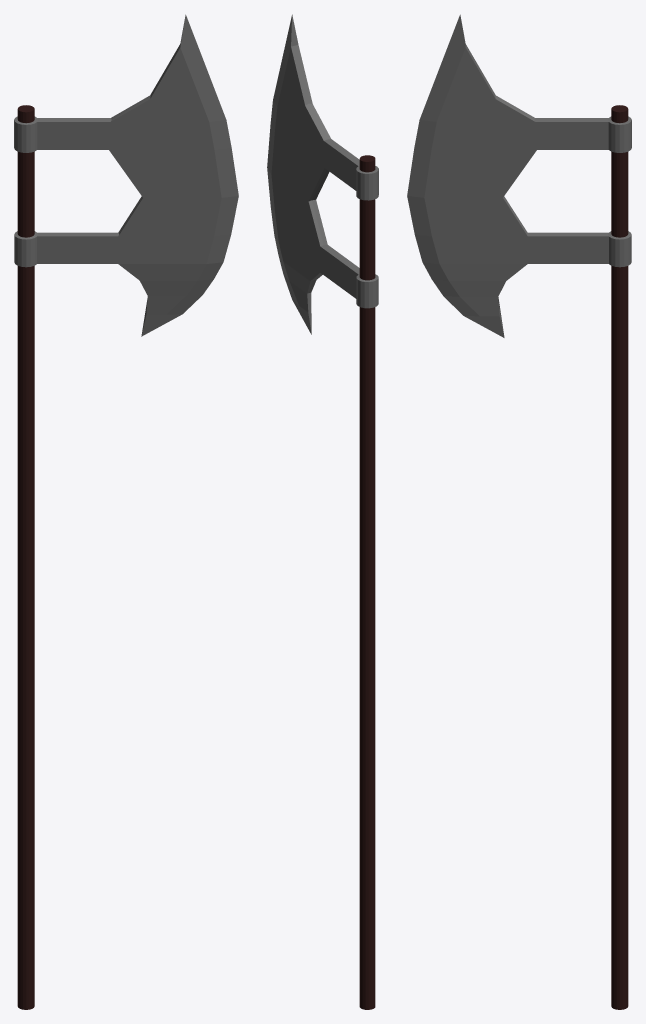
File: 2handaxe.fbx
3 renders of one model, left to right at view 1: azimuth 90°, elevation 25°; view 2: azimuth 210°, elevation 25°; view 3: azimuth 270°, elevation 25°, orthographic. The views are drawn at different scales.
Parts seen in each view (by area): view 1: Cylinder; view 2: Cylinder; view 3: Cylinder.
Part boxes in pixels (x1,y1,x2,y2): Cylinder: [14, 14, 238, 1009]; Cylinder: [267, 14, 378, 1009]; Cylinder: [407, 14, 631, 1009].
Size of the model in its own units: 2.87 by 130 by 26.71.
